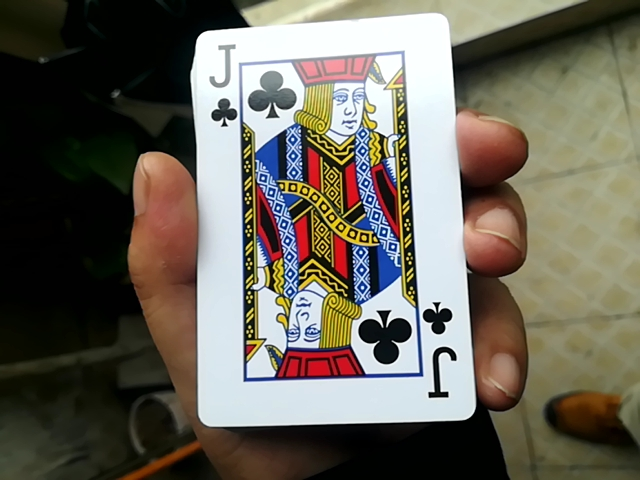mh j: (182, 5, 473, 421)
